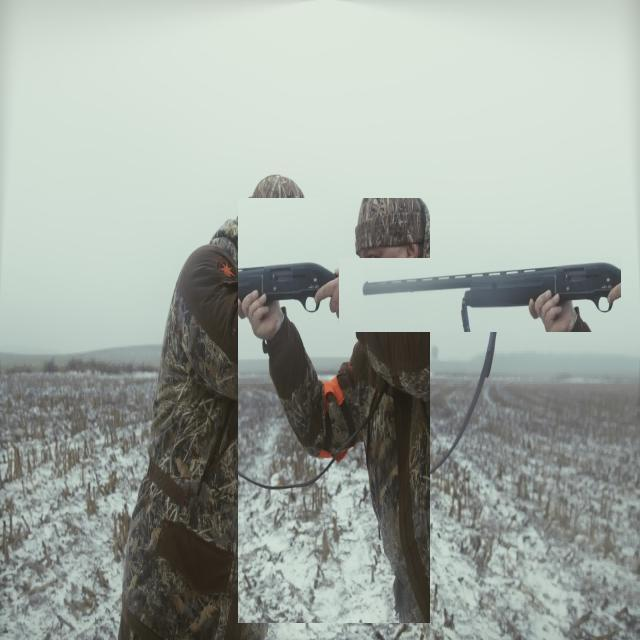poacher: (238, 198, 430, 623)
weapon: (339, 258, 622, 332)
